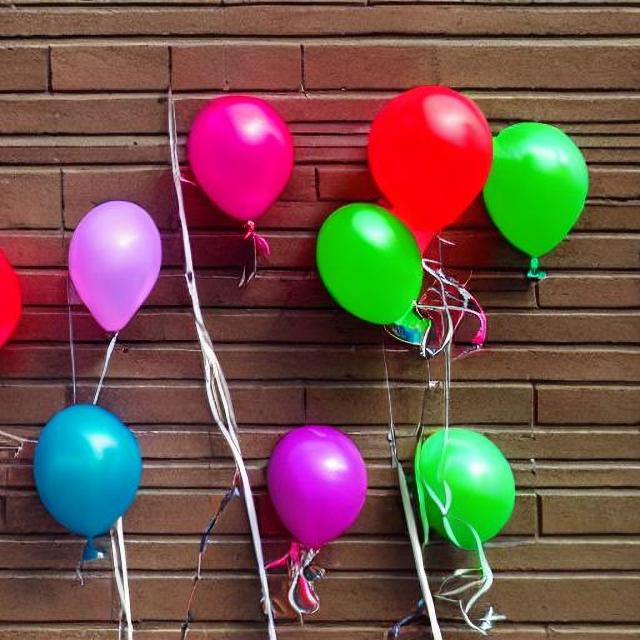balloon: (342, 88, 591, 343), (261, 404, 380, 610), (22, 393, 156, 562), (404, 422, 514, 622), (59, 184, 177, 337), (308, 200, 438, 338), (175, 93, 296, 223)
